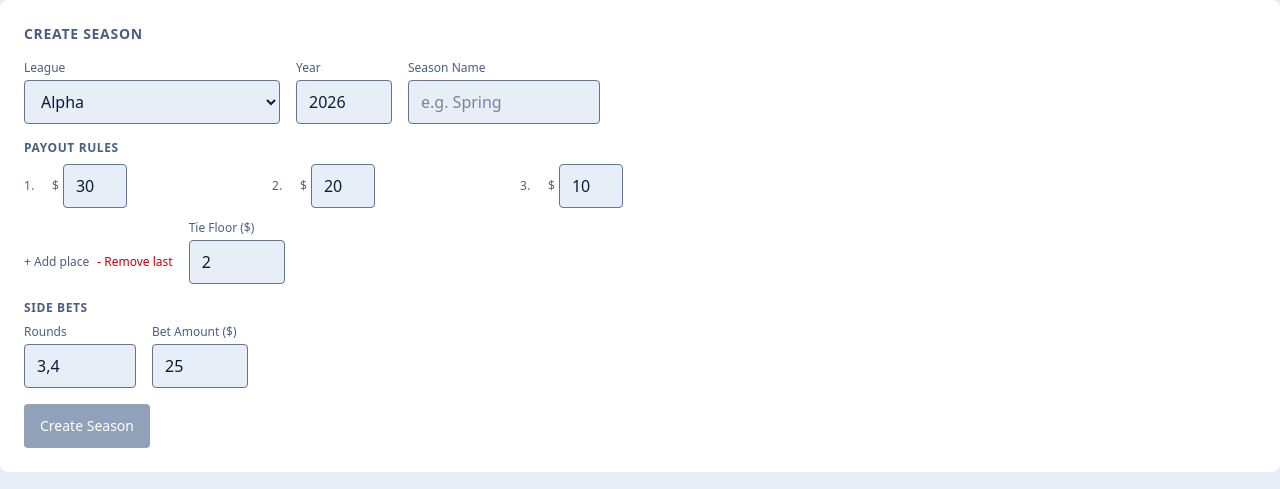
Test case: CreateSeasonSection › submits the season with the rules the server serves as defaults
The image size is (1280, 489).
Expected: the dropdown labelled "League" shows "Alpha", [24,80,280,124]
Replace the text in the number field labelled "Year" with "2030" at coordinates (344, 102), box [296,80,392,124]
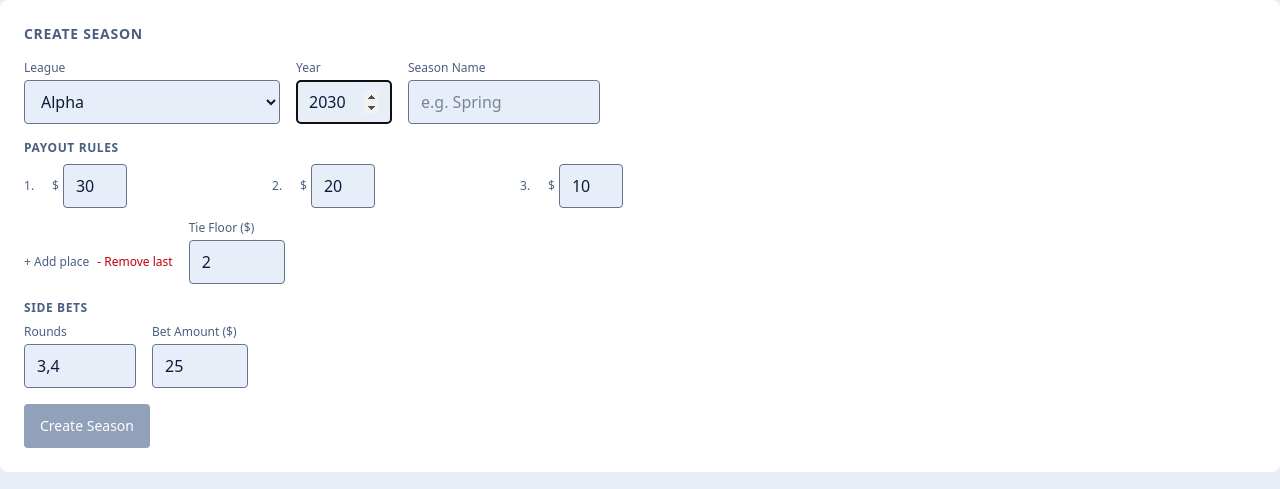
Type "Spring" into the field labelled "Season Name" at coordinates (504, 102), box [408,80,600,124]
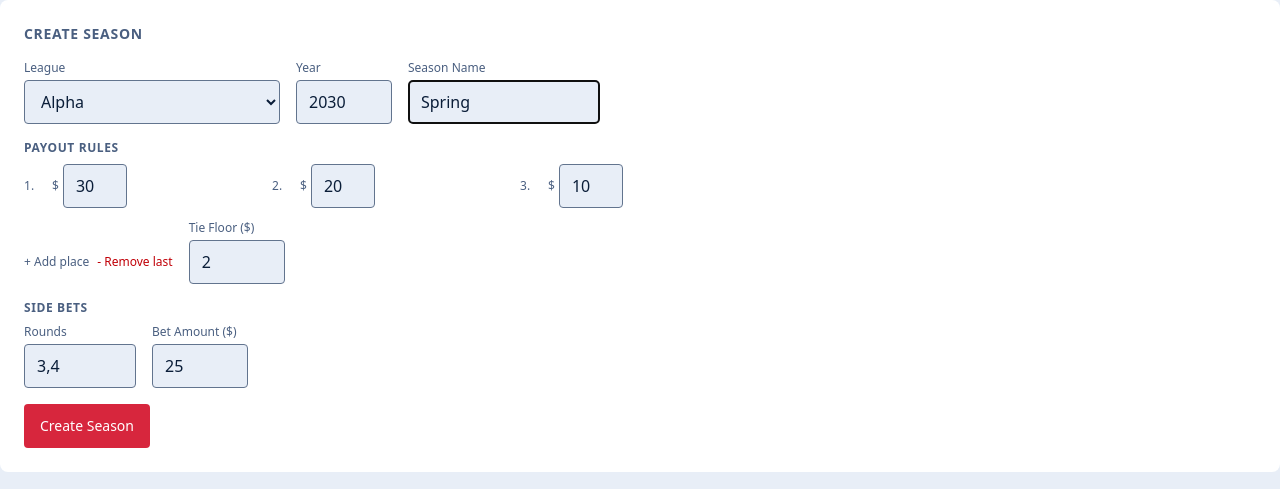
Click the button "Create Season" at coordinates (87, 426), box [24,404,150,448]
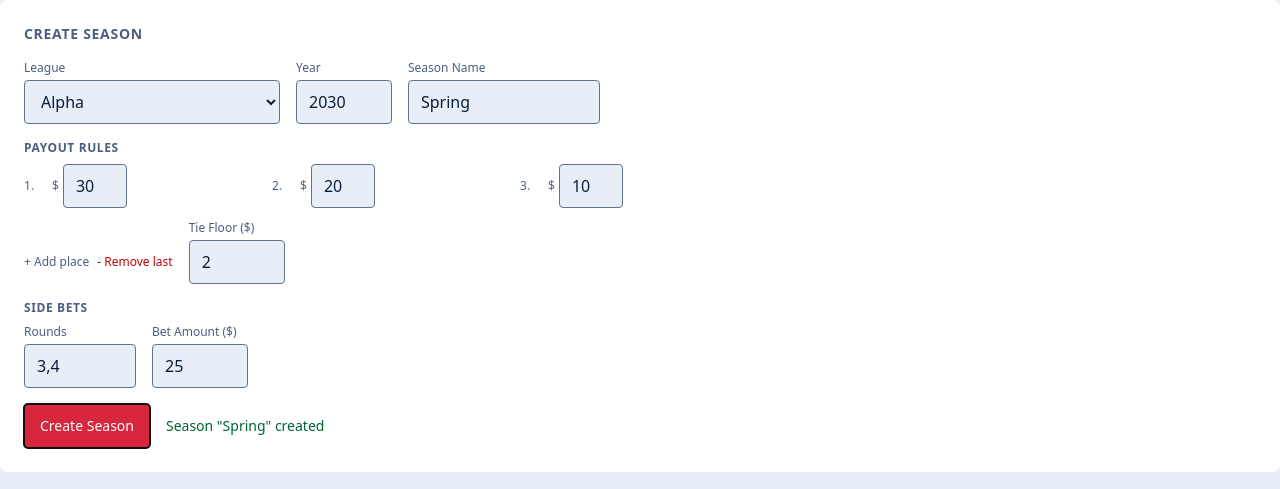
Now the text "Season \"Spring\" created" is shown, box [166,416,324,436]
